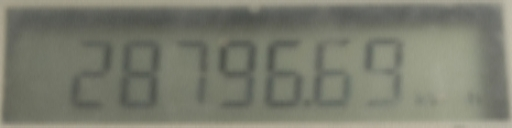2: (60, 31, 114, 113)
6: (260, 23, 310, 115), (312, 20, 358, 109)
7: (164, 21, 210, 116)
8: (114, 27, 164, 117)
9: (351, 17, 408, 112), (216, 25, 258, 120)
d: (303, 93, 319, 114)
